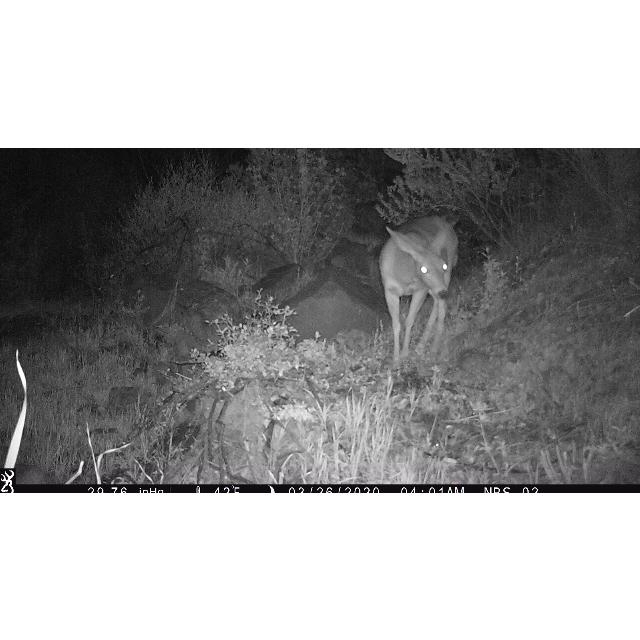animals: (379, 212, 463, 372)
